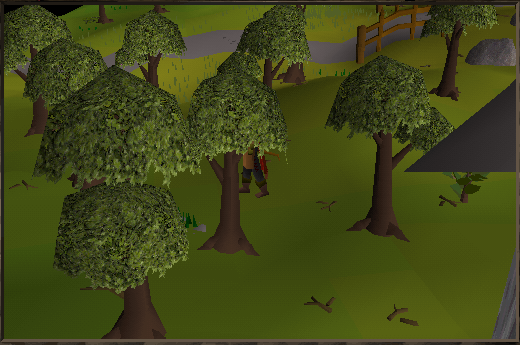Tree: (60, 80, 178, 328), (331, 56, 441, 248), (191, 78, 265, 252), (429, 0, 478, 99)
